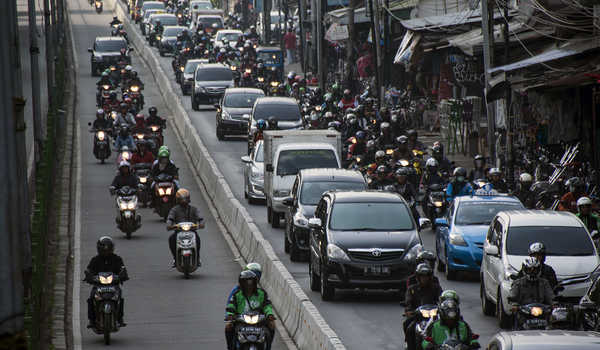car: (478, 209, 600, 320), (307, 191, 421, 305), (434, 192, 537, 283), (261, 128, 352, 228), (289, 166, 372, 260), (247, 139, 317, 202), (217, 88, 272, 142), (261, 97, 303, 157), (192, 64, 235, 109), (90, 34, 132, 79), (192, 9, 225, 47), (254, 48, 285, 85), (184, 60, 215, 95), (214, 28, 243, 64), (148, 14, 179, 46), (161, 26, 193, 56)
motorbike: (223, 260, 278, 350), (88, 235, 132, 345), (513, 242, 563, 334), (404, 252, 443, 350), (425, 290, 484, 350), (167, 189, 205, 277), (111, 160, 141, 239), (154, 145, 178, 228), (423, 157, 449, 231), (391, 170, 421, 234), (129, 140, 155, 210), (88, 110, 113, 164), (393, 135, 415, 192), (111, 124, 134, 177), (406, 128, 427, 185), (146, 107, 166, 160), (113, 103, 134, 149), (132, 115, 152, 163), (258, 116, 278, 160), (127, 70, 146, 116), (96, 71, 116, 113), (377, 120, 395, 166), (471, 154, 488, 193), (350, 131, 366, 172), (325, 93, 340, 134), (116, 46, 131, 84), (225, 52, 240, 87), (311, 86, 324, 125), (269, 66, 282, 99), (220, 38, 233, 68), (256, 62, 268, 94), (243, 58, 254, 88), (111, 15, 122, 37)
